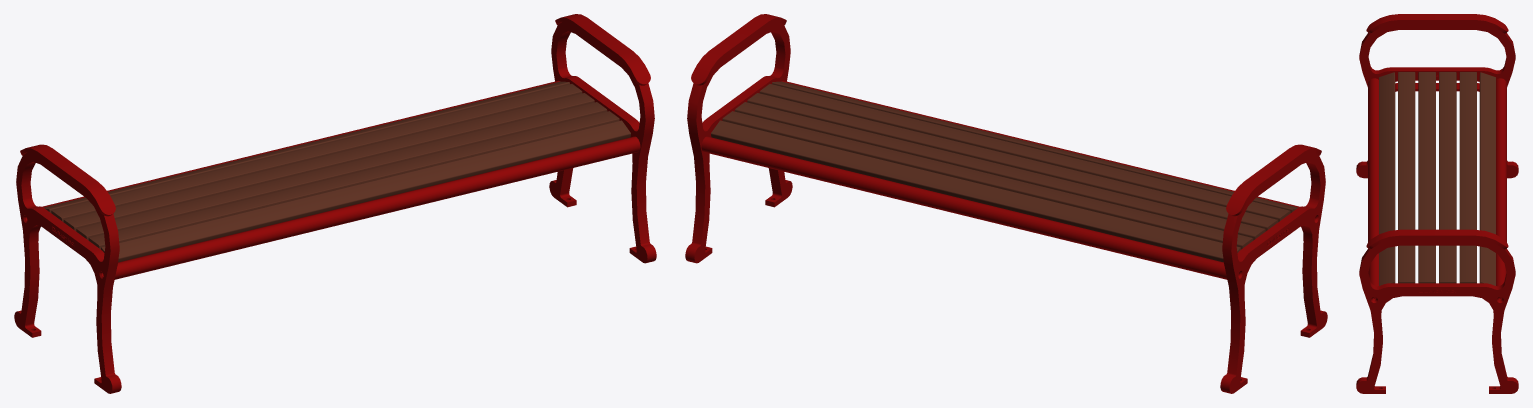
3 renders of one model, left to right at view 1: azimuth 30°, elevation 25°; view 2: azimuth 150°, elevation 25°; view 3: azimuth 270°, elevation 25°, orthographic. The views are drawn at different scales.
Visible parts, largest first — view 1: mesh84_mesh84-geometry, mesh1_mesh1-geometry, mesh86_mesh86-geometry, mesh52_mesh52-geometry, mesh53_mesh53-geometry; view 2: mesh84_mesh84-geometry, mesh1_mesh1-geometry, mesh86_mesh86-geometry, mesh53_mesh53-geometry, mesh52_mesh52-geometry; view 3: mesh84_mesh84-geometry, mesh1_mesh1-geometry, mesh86_mesh86-geometry, mesh52_mesh52-geometry, mesh53_mesh53-geometry.
Part boxes in pixels (box(x1,y1,x2,y2)): mesh84_mesh84-geometry: box(51, 84, 619, 249); mesh1_mesh1-geometry: box(14, 14, 656, 393); mesh86_mesh86-geometry: box(44, 81, 630, 262); mesh52_mesh52-geometry: box(114, 136, 640, 279); mesh53_mesh53-geometry: box(42, 80, 559, 207); mesh84_mesh84-geometry: box(722, 84, 1290, 249); mesh1_mesh1-geometry: box(685, 14, 1327, 393); mesh86_mesh86-geometry: box(711, 81, 1297, 262); mesh53_mesh53-geometry: box(701, 136, 1227, 279); mesh52_mesh52-geometry: box(782, 80, 1299, 207); mesh84_mesh84-geometry: box(1398, 72, 1476, 283); mesh1_mesh1-geometry: box(1356, 14, 1518, 393); mesh86_mesh86-geometry: box(1379, 72, 1495, 285); mesh52_mesh52-geometry: box(1368, 78, 1378, 298); mesh53_mesh53-geometry: box(1496, 78, 1506, 298).
Bounding box in the file's own units: 0.9098 × 0.305 × 0.2815.
